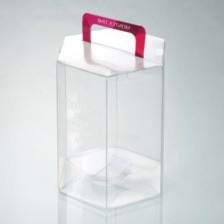plastic_box: (48, 6, 172, 214)
